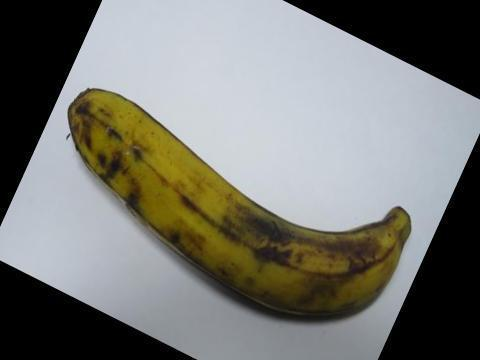overripe: (54, 81, 422, 329)
